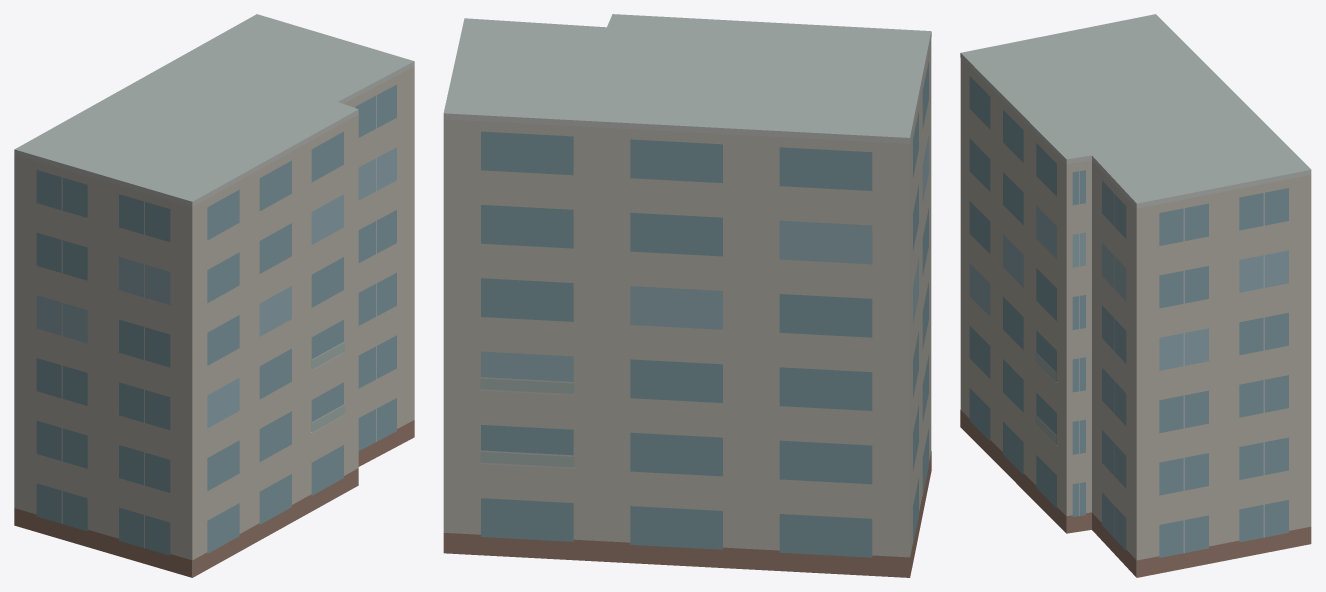
Rendered from survey-upis-32940942.glb.
3 renders of one model, left to right at view 1: azimuth 30°, elevation 25°; view 2: azimuth 150°, elevation 25°; view 3: azimuth 270°, elevation 25°, orthographic. The views are drawn at different scales.
Parts seen in each view (by area): view 1: survey-upis-32940942.tmp; view 2: survey-upis-32940942.tmp; view 3: survey-upis-32940942.tmp.
Boxes of the visible parts, x1=… form: survey-upis-32940942.tmp: x1=14, y1=14, x2=414, y2=577; survey-upis-32940942.tmp: x1=443, y1=14, x2=931, y2=577; survey-upis-32940942.tmp: x1=960, y1=14, x2=1311, y2=577.
Bounding box in the file's own units: 19.89 × 18.3 × 15.56.
